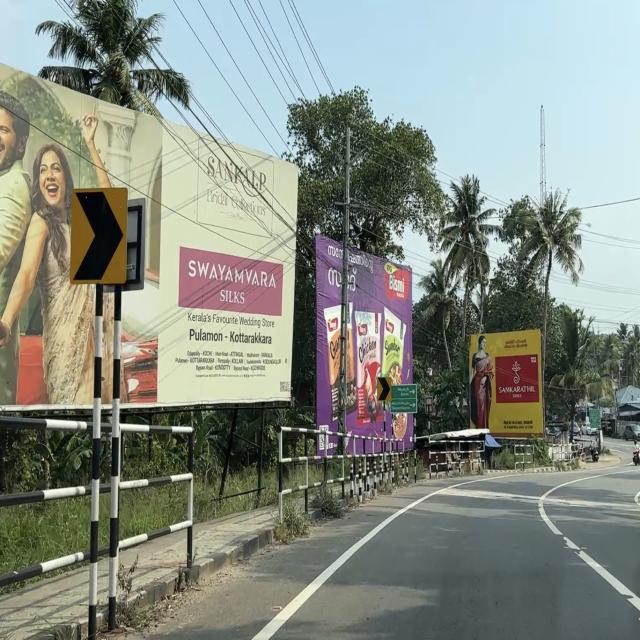GENERAL: (389, 383, 418, 415)
TURN_RIGHT: (67, 185, 129, 286), (376, 377, 392, 402)
